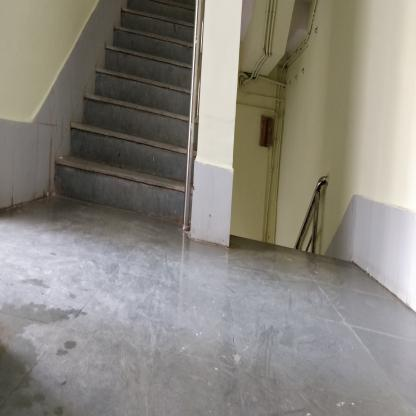stairs: (117, 19, 183, 222)
